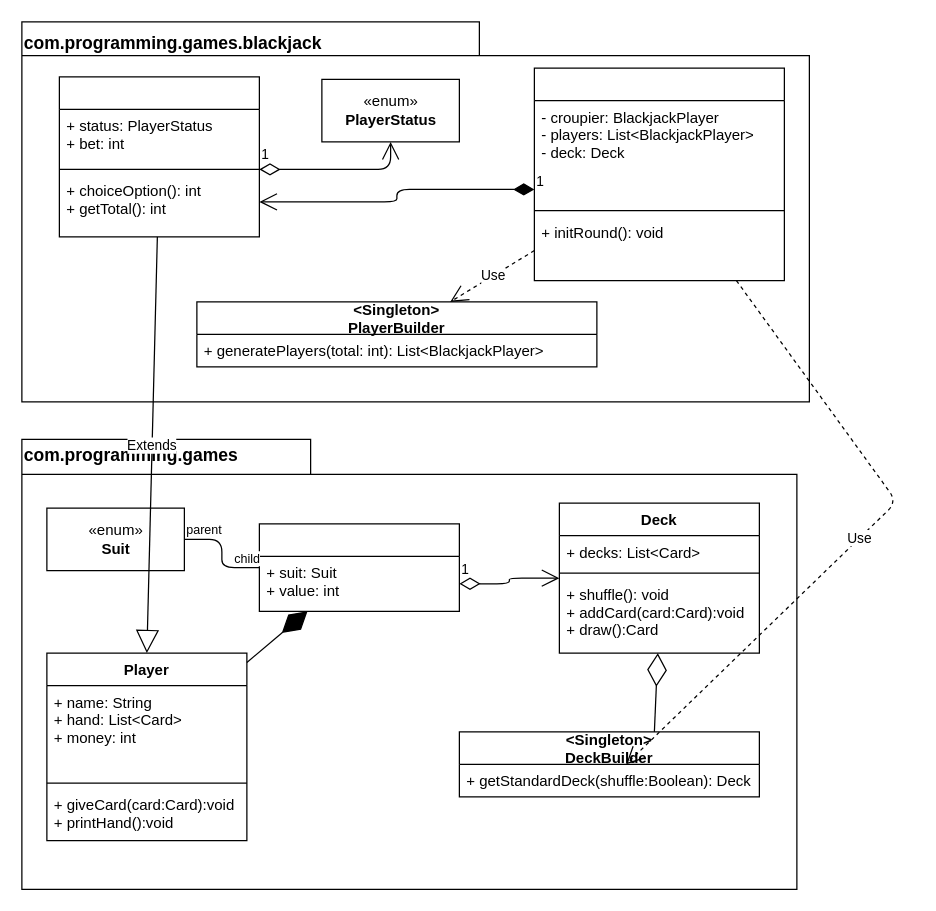
The diagram is 936 pixels wide and 911 high, and some of its shapes have lost their labels. The box of each missing label's shape, as (x1, y1, x2, y2) in pixels:
BlackjackBoard: (533, 67, 784, 281)
BlackjackPlayer: (58, 76, 259, 237)
Card: (258, 522, 459, 611)
